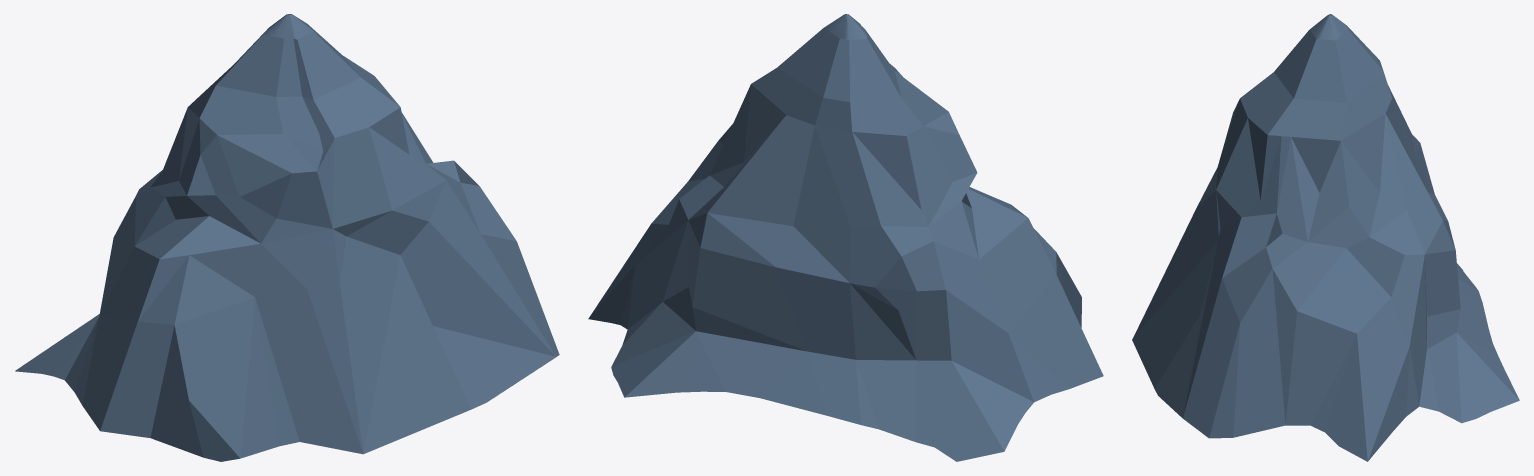
File: monte1.fbx
3 renders of one model, left to right at view 1: azimuth 30°, elevation 25°; view 2: azimuth 150°, elevation 25°; view 3: azimuth 270°, elevation 25°, orthographic. The views are drawn at different scales.
Parts seen in each view (by area): view 1: m1; view 2: m1; view 3: m1.
Boxes of the visible parts, x1,y1,x2,y2 form: m1: (15,14,559,461); m1: (588,14,1103,461); m1: (1132,14,1519,461).
Size of the model in its own units: 41.27 by 30.45 by 31.27.
